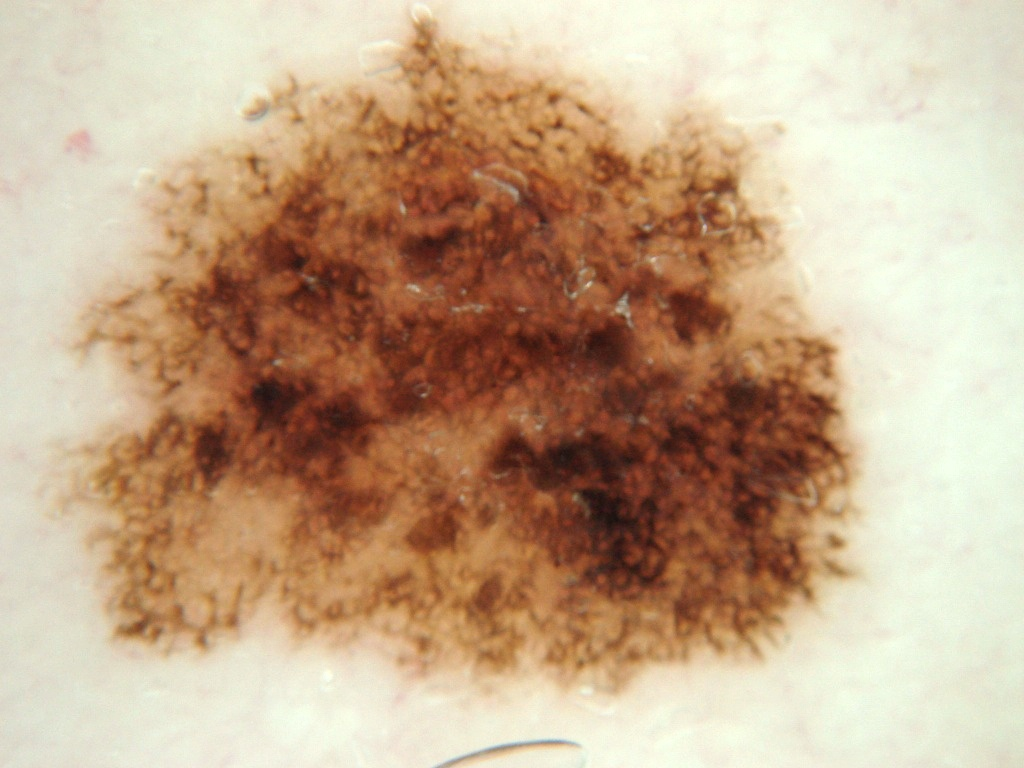Detected Lesion: (52, 13, 877, 688)
